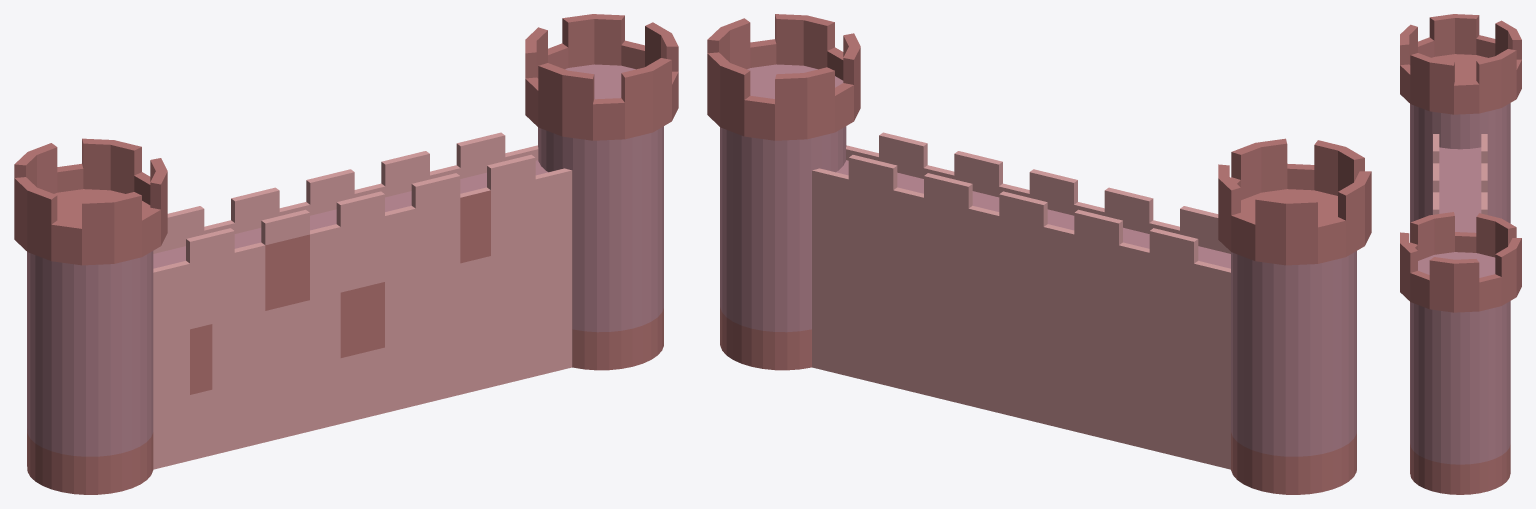
Rendered from Castle.fbx.
3 views of the same model, side by side, from view 1: azimuth 30°, elevation 25°; view 2: azimuth 150°, elevation 25°; view 3: azimuth 270°, elevation 25° (orthographic). The views are drawn at different scales.
Parts seen in each view (by area): view 1: Circle.002; view 2: Circle.002; view 3: Circle.002.
Boxes of the visible parts, x1,y1,x2,y2 form: Circle.002: (14,14,678,494); Circle.002: (707,14,1371,494); Circle.002: (1400,14,1521,494).
Size of the model in its own units: 561 by 247 by 116.
1 material, 1 textured.
